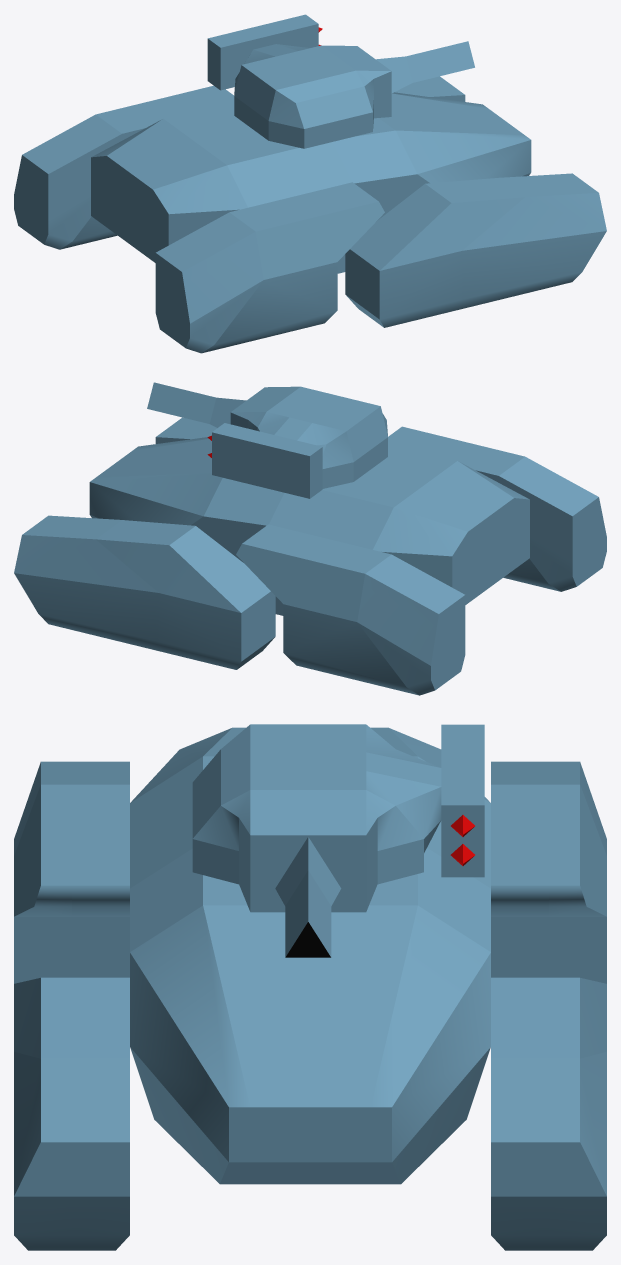
The model's file is playerTank02.fbx.
The picture shows the model from 3 angles, top to bottom: view 1: azimuth 30°, elevation 25°; view 2: azimuth 150°, elevation 25°; view 3: azimuth 270°, elevation 25°; orthographic projection. The views are drawn at different scales.
Visible parts, largest first — view 1: body, tracks3, tracks4, turret, tracks2, tracks1; view 2: body, tracks1, tracks2, turret, tracks4, tracks3; view 3: body, turret, tracks1, tracks3, tracks2, tracks4.
Boxes of the visible parts, box(x1,y1,x2,y2) form: body: box(91, 92, 531, 273); tracks3: box(345, 173, 606, 327); tracks4: box(155, 182, 384, 353); turret: box(207, 14, 474, 148); tracks2: box(14, 85, 234, 249); tracks1: box(395, 76, 465, 101); body: box(89, 437, 529, 615); tracks1: box(14, 515, 275, 669); tracks2: box(236, 524, 465, 695); turret: box(147, 382, 387, 498); tracks4: box(388, 426, 606, 591); tracks3: box(155, 417, 216, 443); body: box(130, 727, 490, 1184); turret: box(192, 724, 484, 957); tracks1: box(491, 977, 606, 1250); tracks3: box(14, 977, 129, 1250); tracks2: box(491, 761, 606, 983); tracks4: box(14, 761, 129, 983).
Size of the model in its own units: 4.55 by 2.09 by 3.33.
